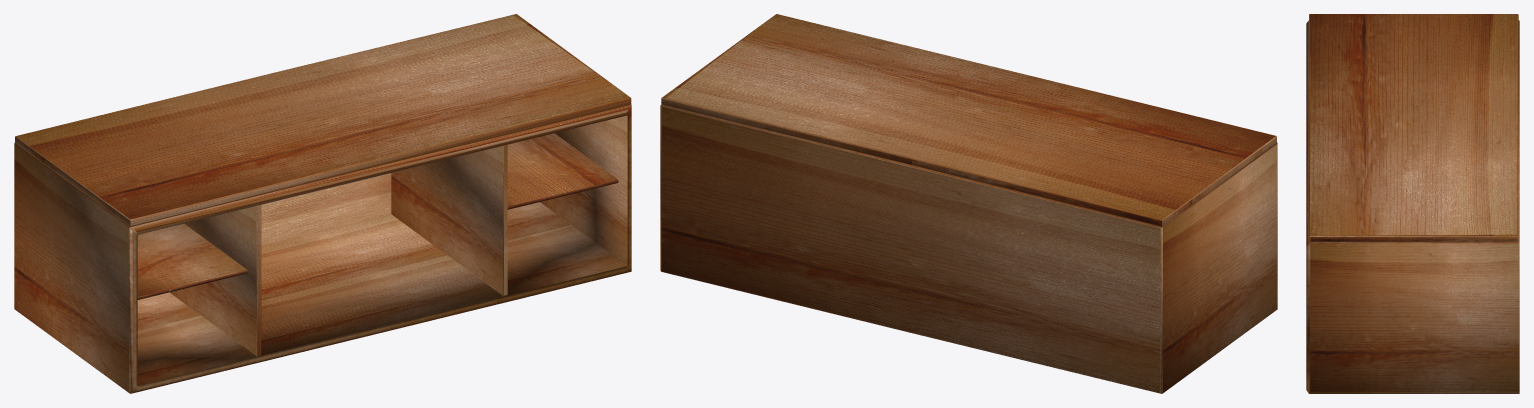
File: desk.fbx
3 views of the same model, side by side, from view 1: azimuth 30°, elevation 25°; view 2: azimuth 150°, elevation 25°; view 3: azimuth 270°, elevation 25° (orthographic). The views are drawn at different scales.
Parts seen in each view (by area): view 1: desk; view 2: desk; view 3: desk.
Part boxes in pixels (<box>): desk: <box>14,14,631,393</box>; desk: <box>660,14,1277,393</box>; desk: <box>1306,14,1519,393</box>.
Size of the model in its own units: 494 by 164 by 200.
1 material, 1 textured.
